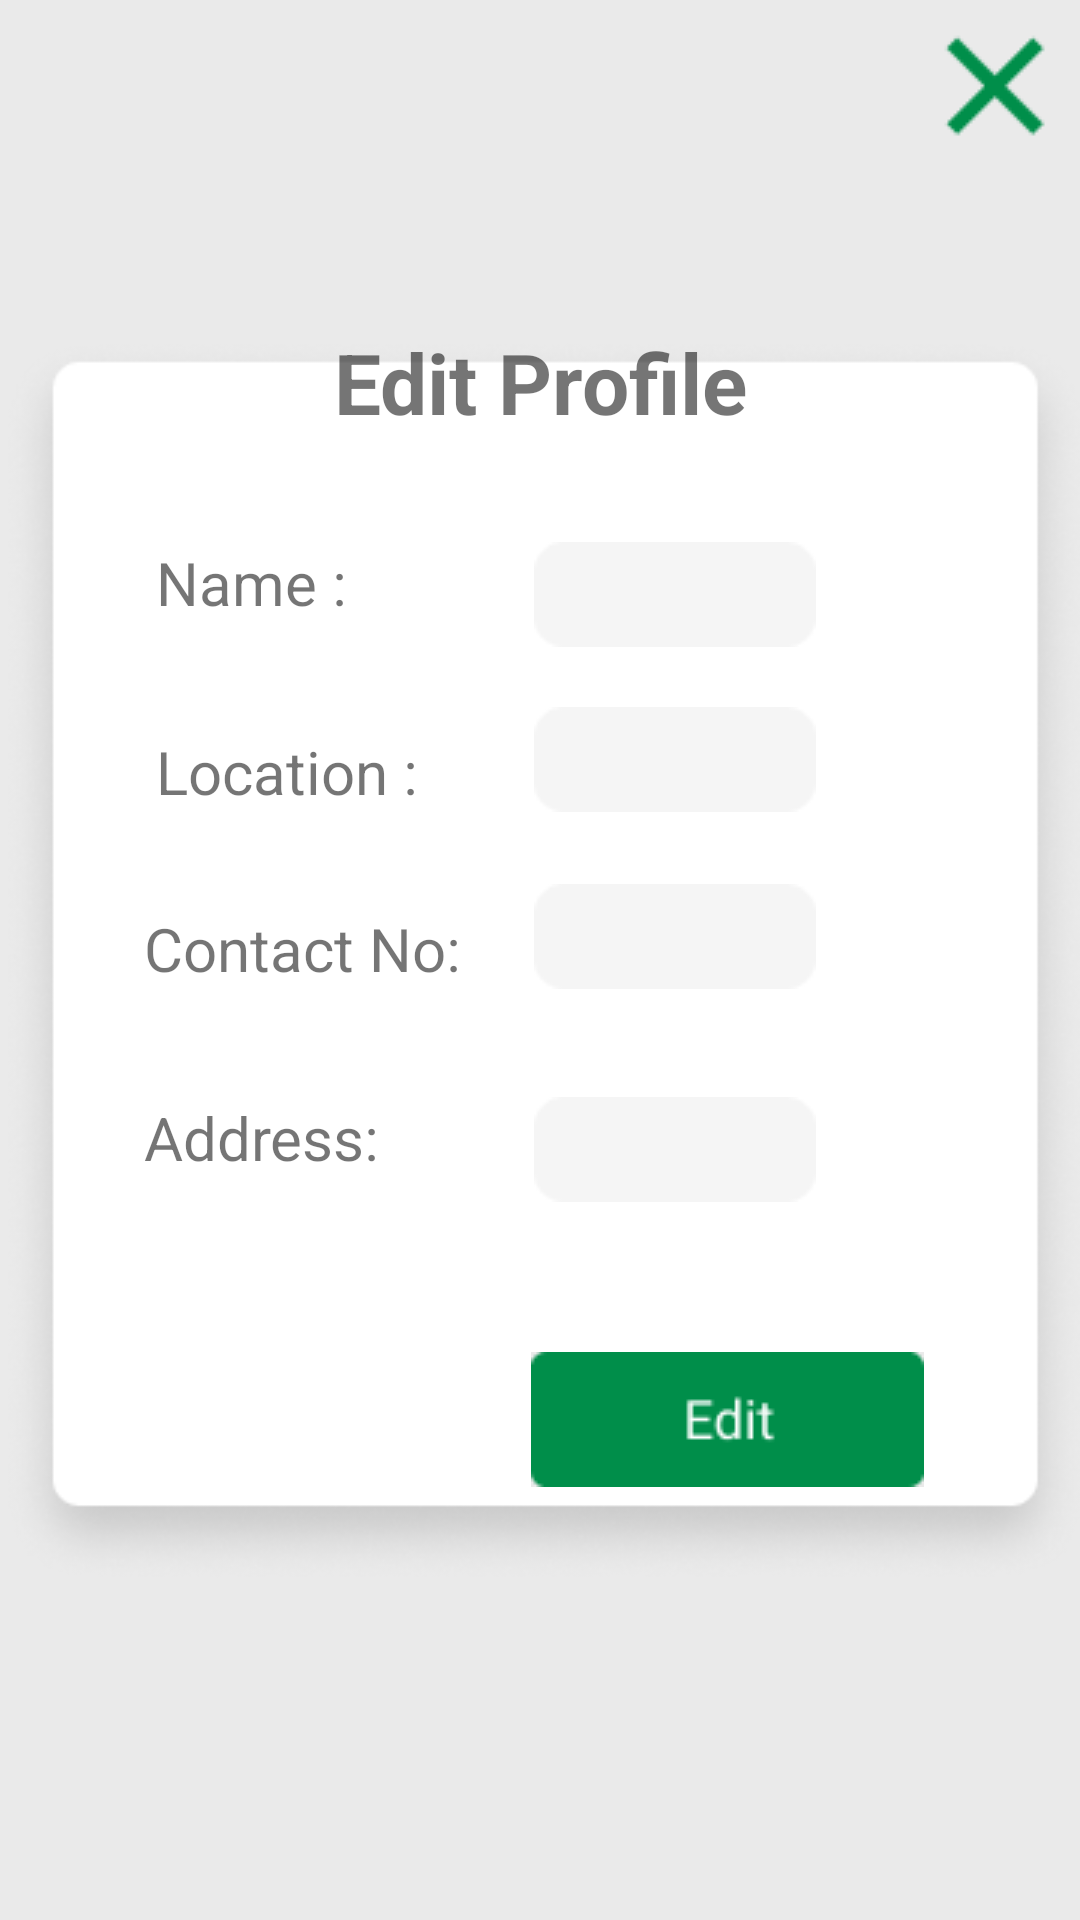

Icons on this 1080w x 1920h Android screen, each with the point to tap as (x,y):
cross: (995,86)
